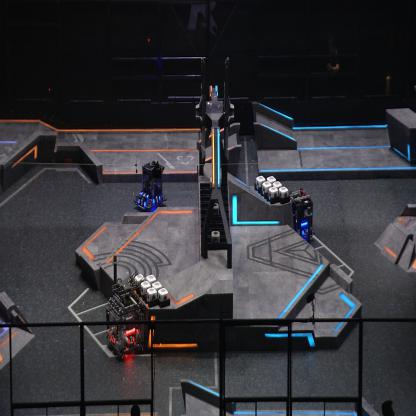car: (105, 282, 144, 359), (133, 160, 168, 212), (286, 188, 314, 243)
